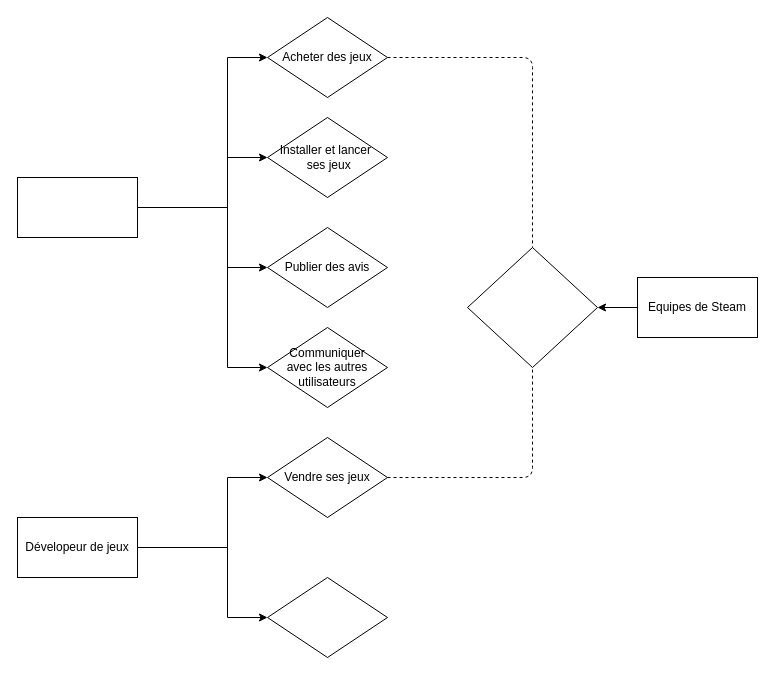
This 775x675 diagram has some shape labels left out. Here are the shapes that lost their labels. From the top down, the centre of each, then its label:
At point (77, 207): "Joueur".
At point (532, 307): "Vendre les jeux produits par les développeurs".
At point (327, 617): "Assurer les mises à jour".
